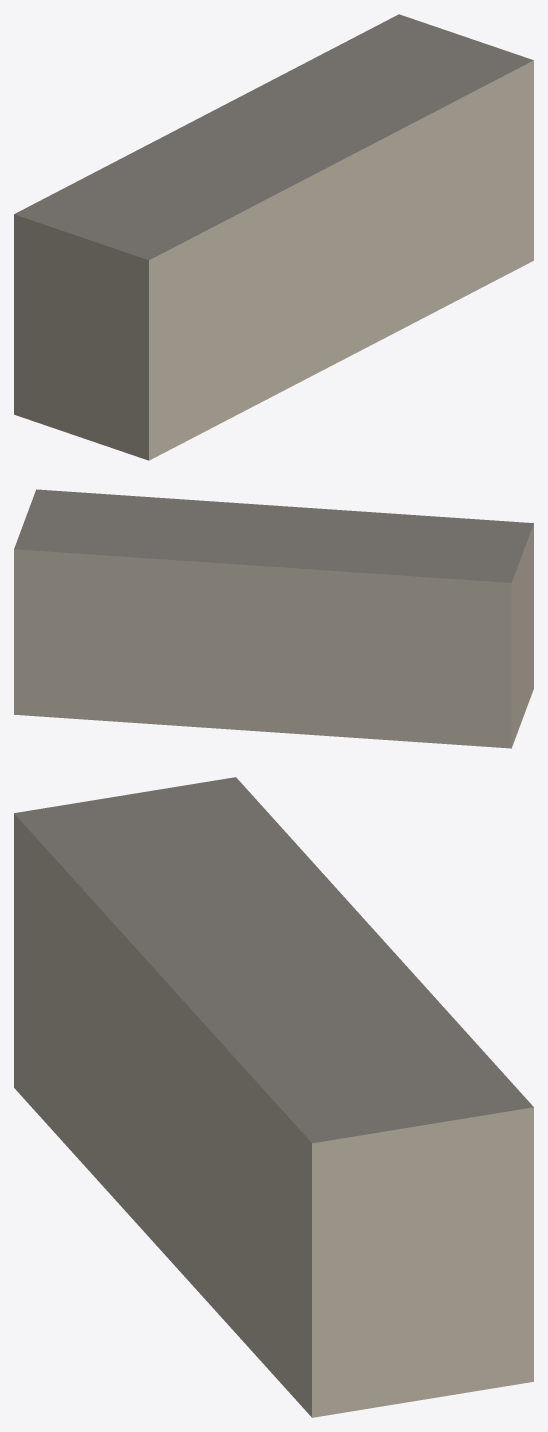
The picture shows the model from 3 angles, top to bottom: view 1: azimuth 30°, elevation 25°; view 2: azimuth 150°, elevation 25°; view 3: azimuth 270°, elevation 25°; orthographic projection. The views are drawn at different scales.
Parts seen in each view (by area): view 1: HP-w1287260019; view 2: HP-w1287260019; view 3: HP-w1287260019.
Boxes of the visible parts, left/top/right/bottom form: HP-w1287260019: left=14, top=14, right=533, bottom=460; HP-w1287260019: left=14, top=489, right=533, bottom=748; HP-w1287260019: left=14, top=777, right=533, bottom=1417.
Size of the model in its own units: 51.5 by 18 by 30.9.
